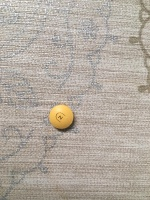Nurofen: (48, 103, 75, 131)
